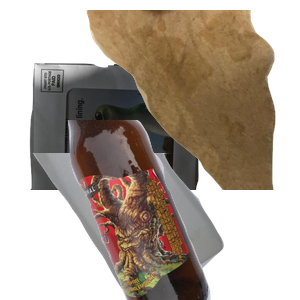glass: (65, 120, 300, 300)
paper: (27, 60, 223, 240)
plastic: (29, 153, 245, 300)
trash: (84, 10, 300, 190)
